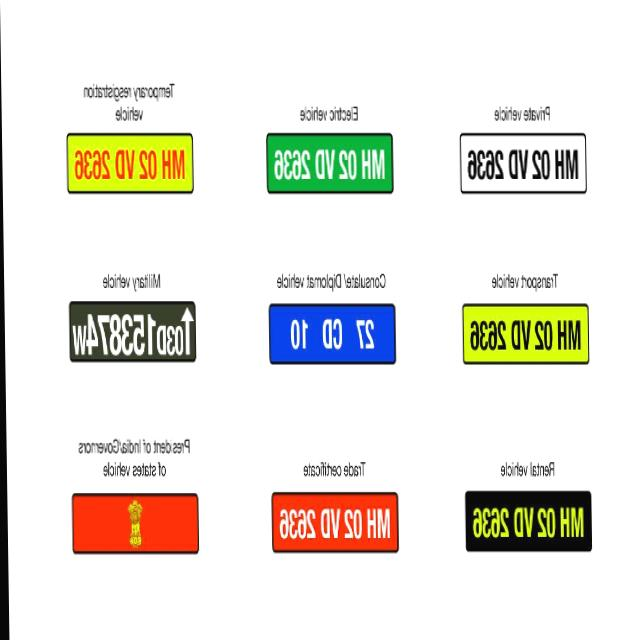0: (545, 506, 555, 542), (542, 320, 553, 351), (541, 149, 551, 181), (173, 324, 183, 356), (148, 150, 157, 183), (290, 319, 299, 351), (352, 510, 361, 540), (348, 150, 356, 181)
1: (147, 311, 155, 355), (300, 318, 308, 351)
2: (493, 149, 504, 180), (300, 149, 311, 180), (363, 320, 374, 350), (338, 150, 349, 180), (498, 509, 509, 539), (100, 150, 111, 180), (305, 509, 315, 540), (533, 321, 543, 351), (536, 508, 546, 538), (496, 321, 506, 351), (138, 150, 148, 180), (532, 151, 541, 180), (343, 509, 352, 538)
3: (120, 315, 133, 355), (282, 148, 292, 181), (477, 150, 486, 183), (165, 326, 175, 355), (287, 507, 296, 539), (84, 149, 92, 182), (481, 509, 490, 538), (479, 321, 487, 351)
4: (84, 314, 97, 356)
5: (131, 314, 144, 355)
6: (72, 148, 84, 180), (91, 150, 101, 184), (466, 149, 476, 181), (487, 321, 497, 352), (278, 508, 288, 539), (469, 320, 478, 353), (274, 148, 283, 181), (489, 508, 499, 537), (471, 509, 481, 538), (295, 509, 305, 538), (292, 152, 301, 182), (486, 150, 494, 182)
7: (96, 314, 109, 355), (354, 318, 364, 351)
8: (108, 314, 120, 355)
c: (331, 318, 342, 350)
d: (318, 507, 330, 539), (314, 147, 325, 180), (320, 319, 331, 350), (115, 148, 125, 182), (510, 320, 520, 352), (508, 150, 518, 180), (513, 507, 522, 540), (156, 326, 165, 355)
h: (553, 149, 565, 182), (556, 320, 566, 354), (365, 509, 375, 541), (360, 148, 370, 180), (161, 148, 171, 180), (559, 509, 569, 538)
m: (374, 506, 390, 542), (564, 148, 579, 184), (569, 506, 584, 540), (371, 148, 385, 181), (171, 147, 185, 180), (567, 319, 581, 351)
v: (329, 506, 340, 541), (520, 317, 530, 353), (124, 148, 135, 180), (325, 147, 335, 181), (522, 504, 532, 537), (519, 149, 528, 181)
w: (72, 322, 86, 358)
